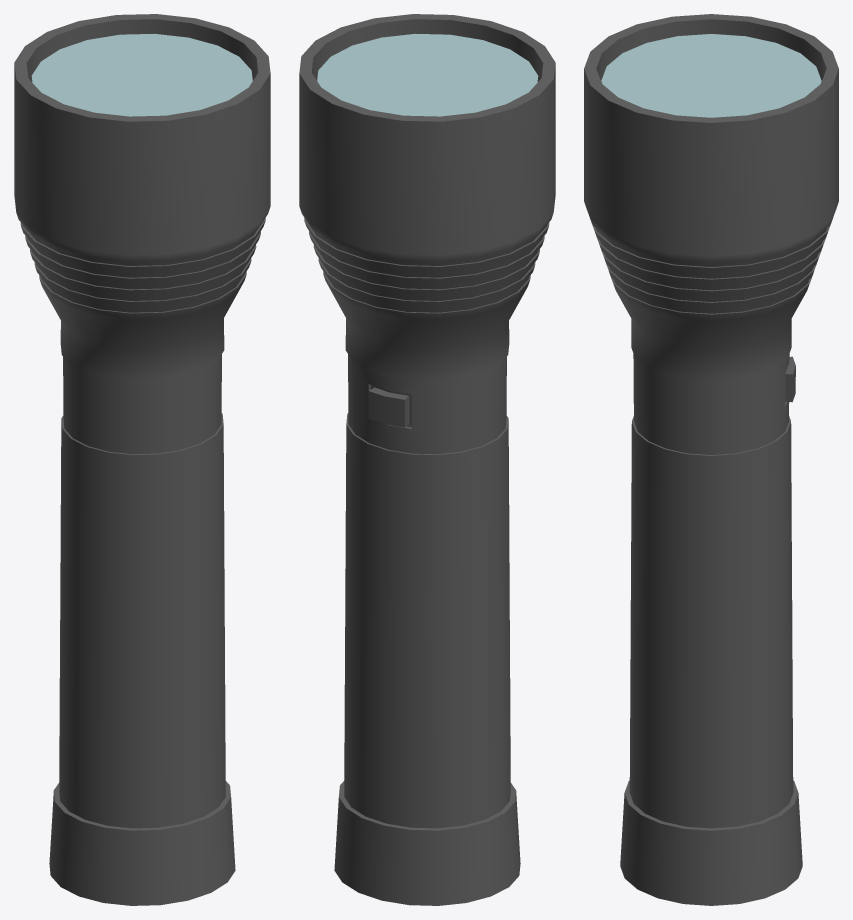
The model's file is flashlight.fbx.
3 renders of one model, left to right at view 1: azimuth 30°, elevation 25°; view 2: azimuth 150°, elevation 25°; view 3: azimuth 270°, elevation 25°, orthographic.
Visible parts, largest first — view 1: flashlight; view 2: flashlight; view 3: flashlight.
Boxes of the visible parts, left/top/right/bottom form: flashlight: left=14, top=14, right=270, bottom=905; flashlight: left=299, top=14, right=555, bottom=905; flashlight: left=584, top=14, right=838, bottom=905.
Bounding box in the file's own units: 40.65 × 139 × 40.15.
